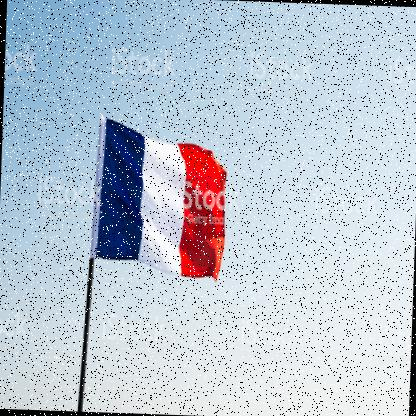fr: (100, 114, 230, 281)
